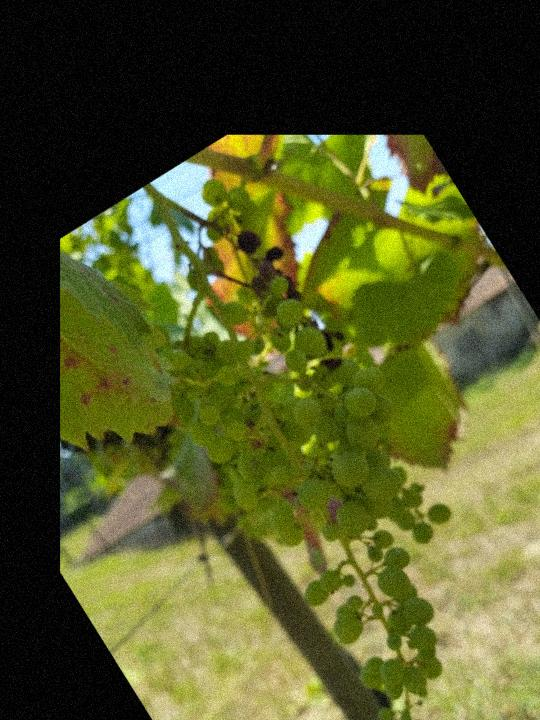grape: (130, 244, 540, 720)
